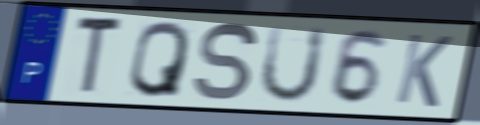6: (327, 28, 388, 107)
K: (391, 31, 455, 111)
Q: (126, 18, 192, 100)
S: (191, 20, 261, 105)
T: (74, 13, 126, 98)
U: (257, 23, 330, 105)
